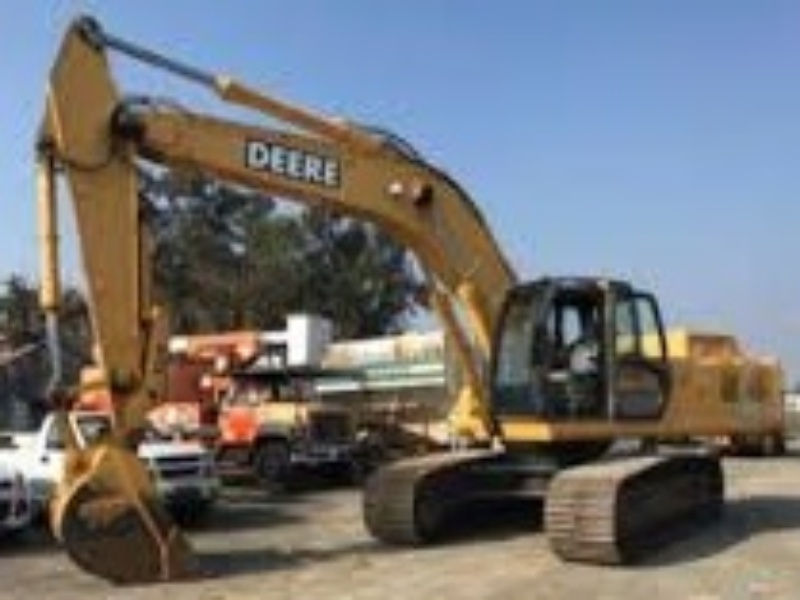wajueji: (305, 191, 800, 598)
